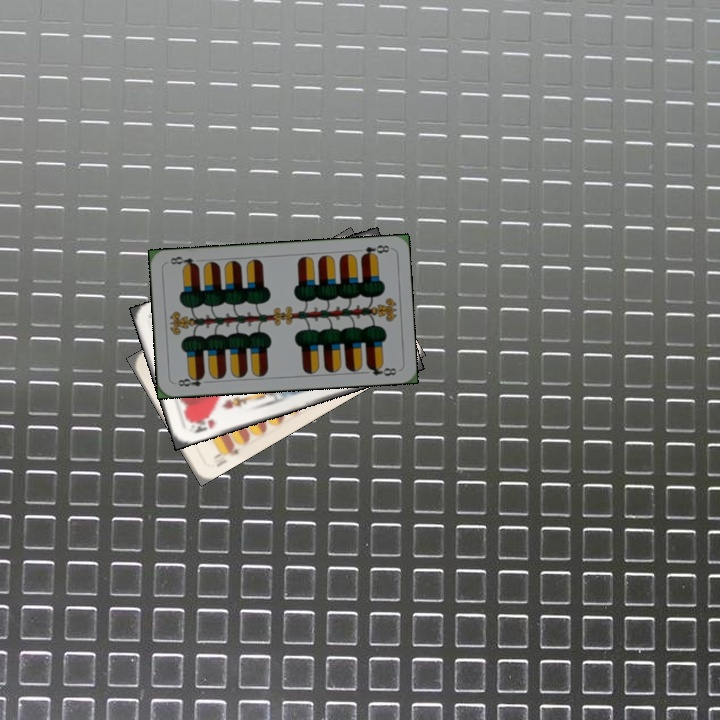E10: (209, 440, 241, 461)
E8: (174, 371, 212, 389), (357, 241, 392, 260)
HK: (185, 413, 218, 436)
